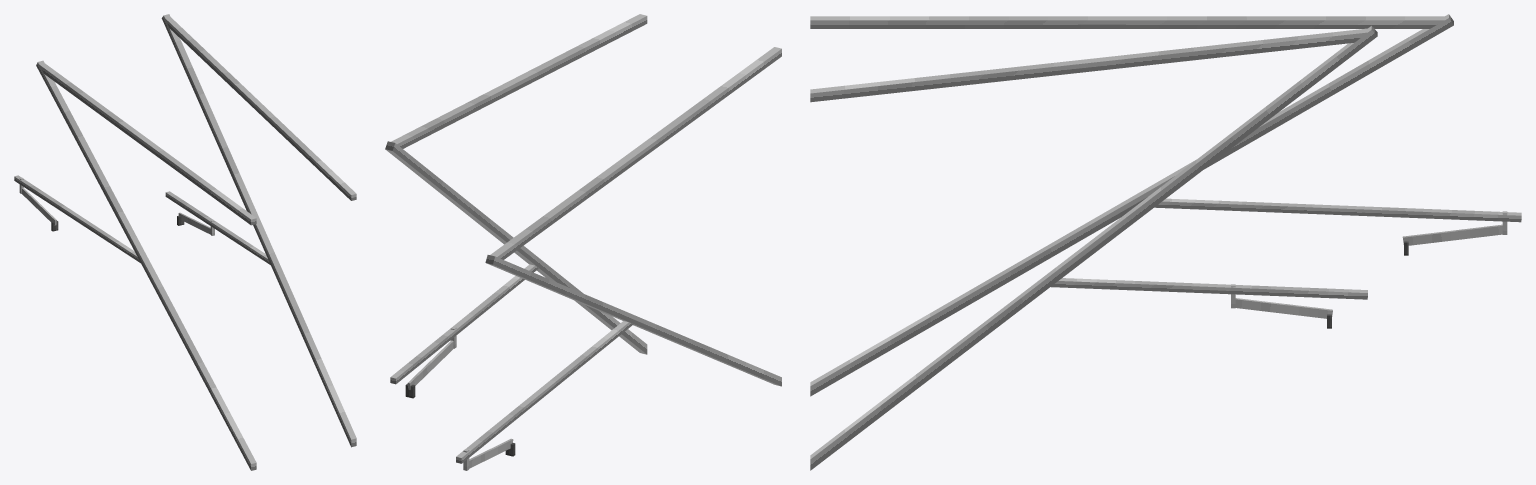
The model's file is cantilever_center_12px.obj.
The picture shows the model from 3 angles, left to right: view 1: azimuth 30°, elevation 25°; view 2: azimuth 150°, elevation 25°; view 3: azimuth 270°, elevation 25°; orthographic projection. The views are drawn at different scales.
Parts seen in each view (by area): view 1: 624ed88c-0f59-47da-9aff-e7bed3f2e595, d976ea24-f8ec-4997-b655-37506337201c, d992fef4-dfb0-4f2b-89ac-3869c700b5df, 3a0697b1-0e30-4d06-8e05-2ca9f5f3fb0b, 65c9a352-9283-49c5-a8a6-e8ef82f304a7, 5ae94d73-c29e-4ac8-a3e9-4e5b0b30a999; view 2: d992fef4-dfb0-4f2b-89ac-3869c700b5df, 3a0697b1-0e30-4d06-8e05-2ca9f5f3fb0b, 624ed88c-0f59-47da-9aff-e7bed3f2e595, d976ea24-f8ec-4997-b655-37506337201c, 65c9a352-9283-49c5-a8a6-e8ef82f304a7, 5ae94d73-c29e-4ac8-a3e9-4e5b0b30a999, 43d8edd7-751b-4b70-9e60-2e9dad42da19, 6f91ee38-8d00-462a-abb8-663ada59b3b1; view 3: d976ea24-f8ec-4997-b655-37506337201c, 624ed88c-0f59-47da-9aff-e7bed3f2e595, d992fef4-dfb0-4f2b-89ac-3869c700b5df, 3a0697b1-0e30-4d06-8e05-2ca9f5f3fb0b, 65c9a352-9283-49c5-a8a6-e8ef82f304a7, 5ae94d73-c29e-4ac8-a3e9-4e5b0b30a999, 6f91ee38-8d00-462a-abb8-663ada59b3b1, 43d8edd7-751b-4b70-9e60-2e9dad42da19.
Part boxes in pixels (x1=…): 624ed88c-0f59-47da-9aff-e7bed3f2e595: x1=36, y1=60, x2=256, y2=470; d976ea24-f8ec-4997-b655-37506337201c: x1=161, y1=14, x2=356, y2=447; d992fef4-dfb0-4f2b-89ac-3869c700b5df: x1=39, y1=63, x2=256, y2=225; 3a0697b1-0e30-4d06-8e05-2ca9f5f3fb0b: x1=165, y1=17, x2=356, y2=200; 65c9a352-9283-49c5-a8a6-e8ef82f304a7: x1=14, y1=175, x2=140, y2=263; 5ae94d73-c29e-4ac8-a3e9-4e5b0b30a999: x1=165, y1=191, x2=270, y2=264; d992fef4-dfb0-4f2b-89ac-3869c700b5df: x1=490, y1=47, x2=781, y2=259; 3a0697b1-0e30-4d06-8e05-2ca9f5f3fb0b: x1=391, y1=14, x2=647, y2=148; 624ed88c-0f59-47da-9aff-e7bed3f2e595: x1=485, y1=255, x2=781, y2=386; d976ea24-f8ec-4997-b655-37506337201c: x1=385, y1=141, x2=647, y2=354; 65c9a352-9283-49c5-a8a6-e8ef82f304a7: x1=456, y1=321, x2=633, y2=463; 5ae94d73-c29e-4ac8-a3e9-4e5b0b30a999: x1=390, y1=264, x2=538, y2=384; 43d8edd7-751b-4b70-9e60-2e9dad42da19: x1=407, y1=340, x2=453, y2=389; 6f91ee38-8d00-462a-abb8-663ada59b3b1: x1=469, y1=438, x2=513, y2=468; d976ea24-f8ec-4997-b655-37506337201c: x1=810, y1=26, x2=1377, y2=470; 624ed88c-0f59-47da-9aff-e7bed3f2e595: x1=810, y1=14, x2=1453, y2=396; d992fef4-dfb0-4f2b-89ac-3869c700b5df: x1=810, y1=16, x2=1444, y2=28; 3a0697b1-0e30-4d06-8e05-2ca9f5f3fb0b: x1=810, y1=28, x2=1367, y2=102; 65c9a352-9283-49c5-a8a6-e8ef82f304a7: x1=1154, y1=198, x2=1521, y2=222; 5ae94d73-c29e-4ac8-a3e9-4e5b0b30a999: x1=1051, y1=278, x2=1367, y2=299; 6f91ee38-8d00-462a-abb8-663ada59b3b1: x1=1402, y1=224, x2=1502, y2=245; 43d8edd7-751b-4b70-9e60-2e9dad42da19: x1=1235, y1=298, x2=1332, y2=318.
Bounding box in the file's own units: 1.19 × 3.16 × 4.62.
